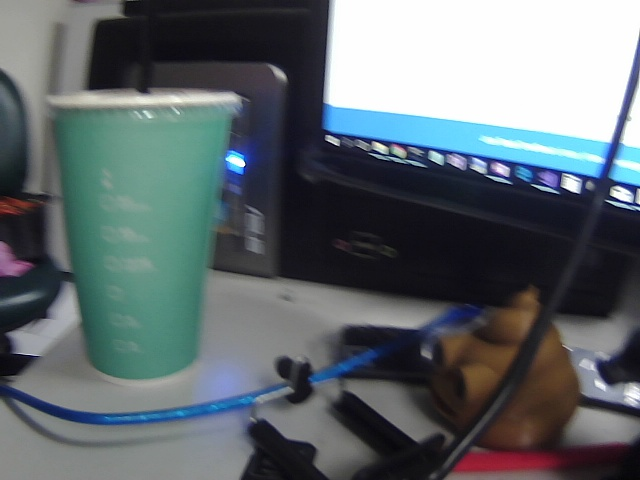beverage: (40, 1, 255, 400)
